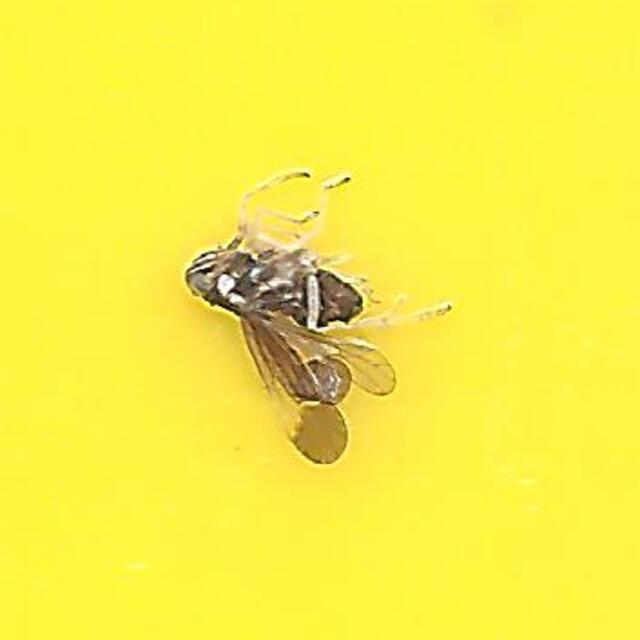Hemiptera: (181, 169, 459, 471)
